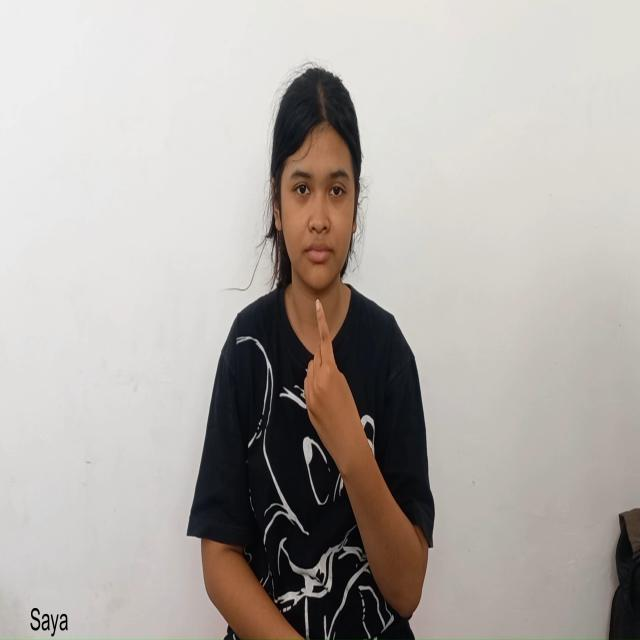Saya -BISINDO-: (298, 281, 432, 620)
